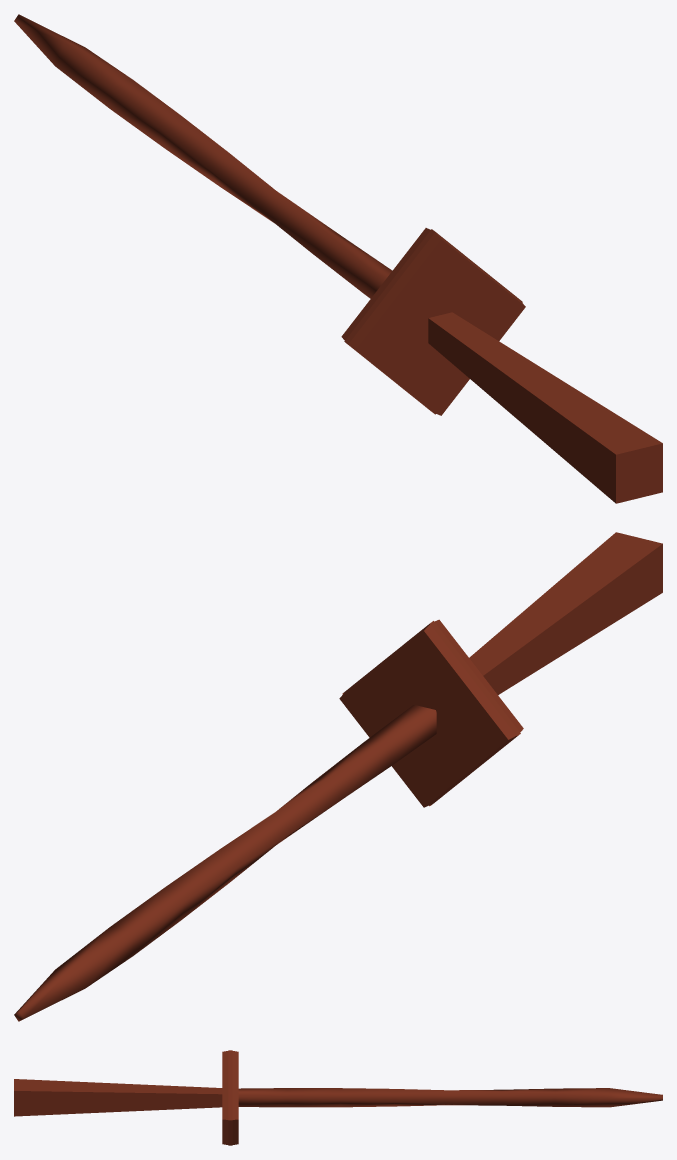
Rendered from BasicWand.fbx.
The picture shows the model from 3 angles, top to bottom: view 1: azimuth 30°, elevation 25°; view 2: azimuth 150°, elevation 25°; view 3: azimuth 270°, elevation 25°; orthographic projection. The views are drawn at different scales.
Visible parts, largest first — view 1: BasicWand; view 2: BasicWand; view 3: BasicWand.
Part boxes in pixels (box(x1,y1,x2,y2)): BasicWand: box(14, 14, 662, 503); BasicWand: box(14, 532, 662, 1021); BasicWand: box(14, 1050, 662, 1145).
Size of the model in its own units: 40.01 by 6.51 by 6.51.
